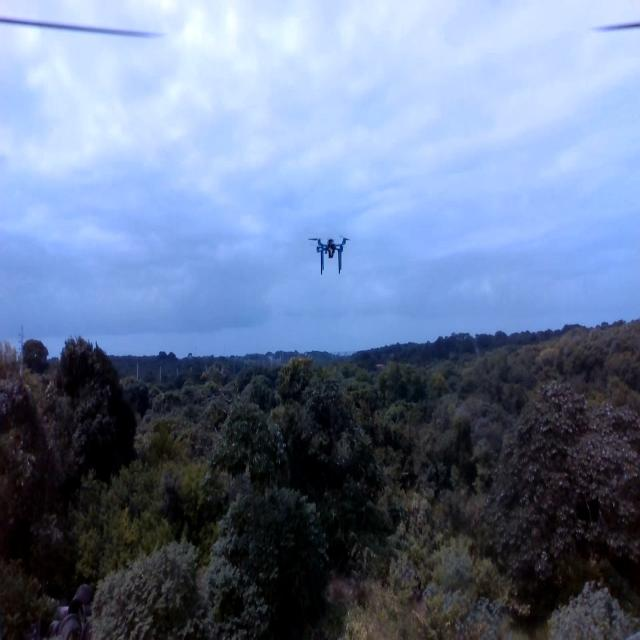-uav-: (302, 223, 355, 281)
